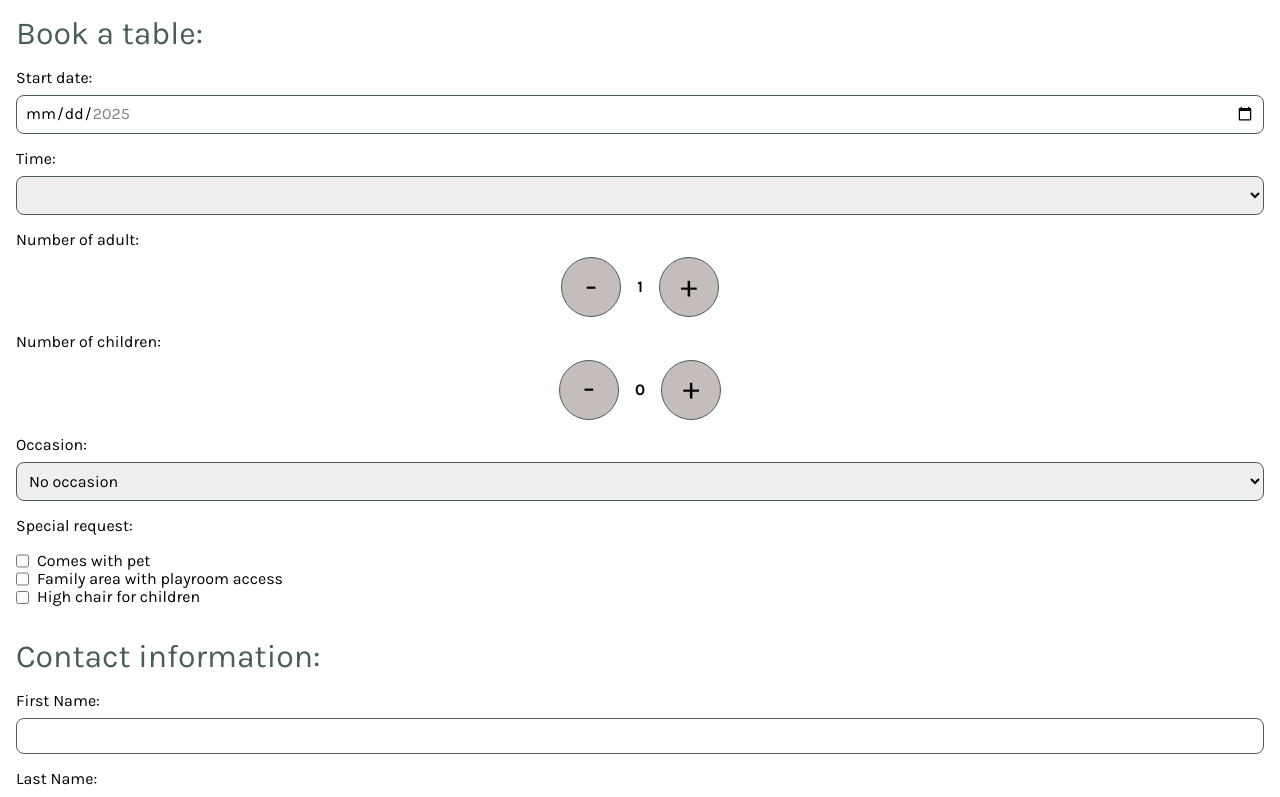
Reservation form increase and decrease buttons › should increase countChildren by 1 when clicking "Increase" button for children
Click the text with test id "increase_children" at [691, 390], box [661,360,721,420]
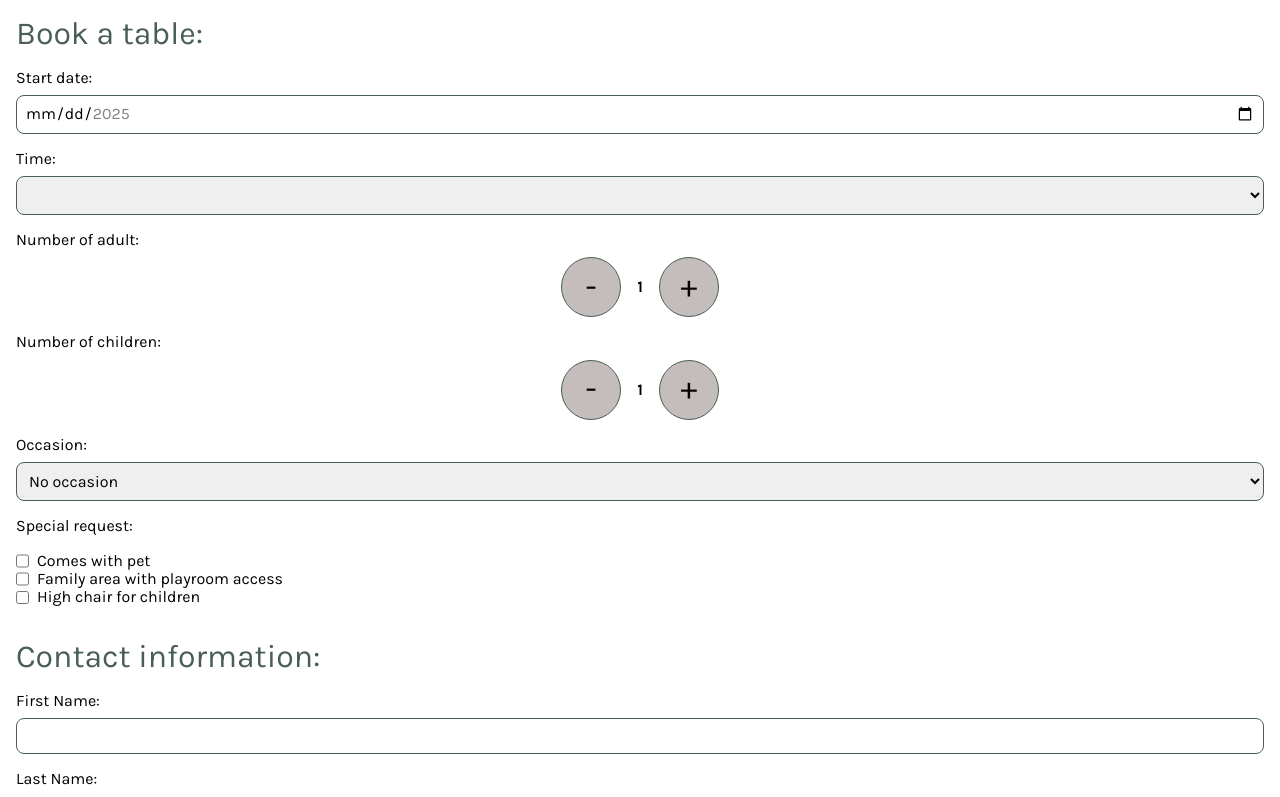
Result: the text with test id "result_children" reads "1" at [637,380,643,398]
